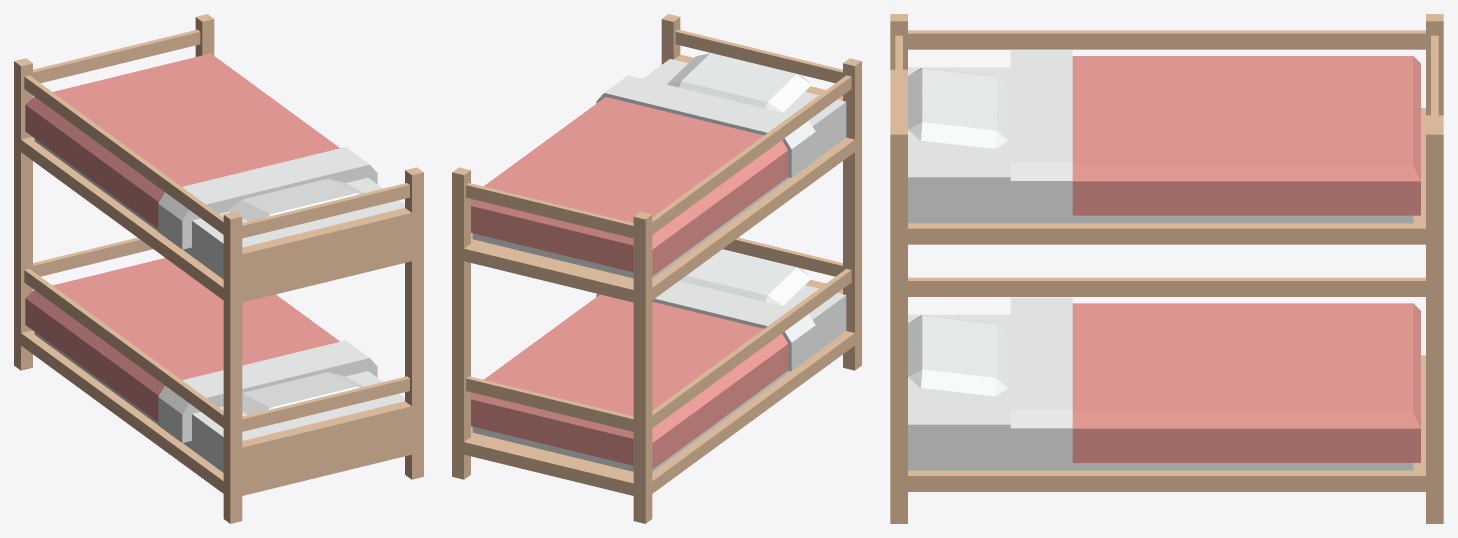
File: bedBunk.gltf
The picture shows the model from 3 angles, left to right: view 1: azimuth 30°, elevation 25°; view 2: azimuth 150°, elevation 25°; view 3: azimuth 270°, elevation 25°; orthographic projection. The views are drawn at different scales.
Visible parts, largest first — view 1: bedBunk, coverTop, coverBottom, pillowTop, pillowBottom; view 2: bedBunk, coverTop, coverBottom, pillowTop, pillowBottom; view 3: bedBunk, coverTop, coverBottom, pillowBottom, pillowTop.
Part boxes in pixels (x1,y1,x2,y2): bedBunk: (14,14,423,523); coverTop: (25,53,377,249); coverBottom: (25,258,377,442); pillowTop: (227,178,364,221); pillowBottom: (242,372,364,414); bedBunk: (452,14,861,523); coverTop: (471,75,815,276); coverBottom: (471,281,815,469); pillowTop: (667,53,811,112); pillowBottom: (679,249,811,305); bedBunk: (890,14,1443,523); coverTop: (1010,50,1420,217); coverBottom: (1010,297,1420,464); pillowBottom: (908,315,1008,396); pillowTop: (908,68,1008,148).
Bounding box in the file's own units: 5.71 × 8.5 × 10.95.
